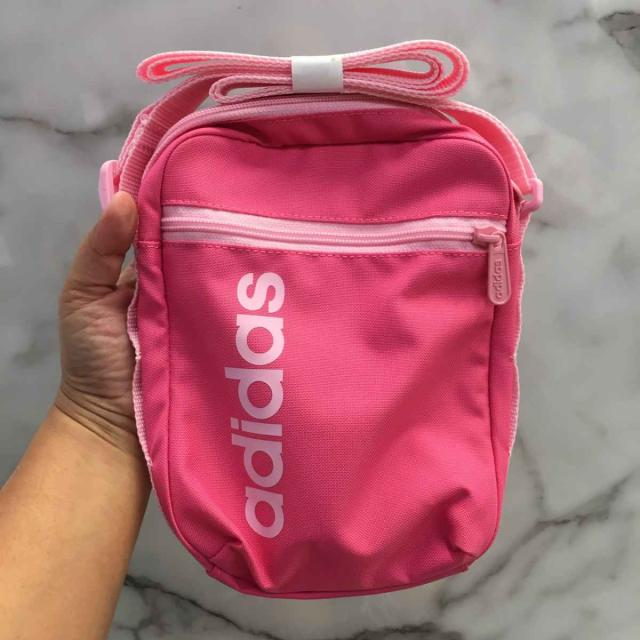Handbag: (125, 95, 544, 602)
